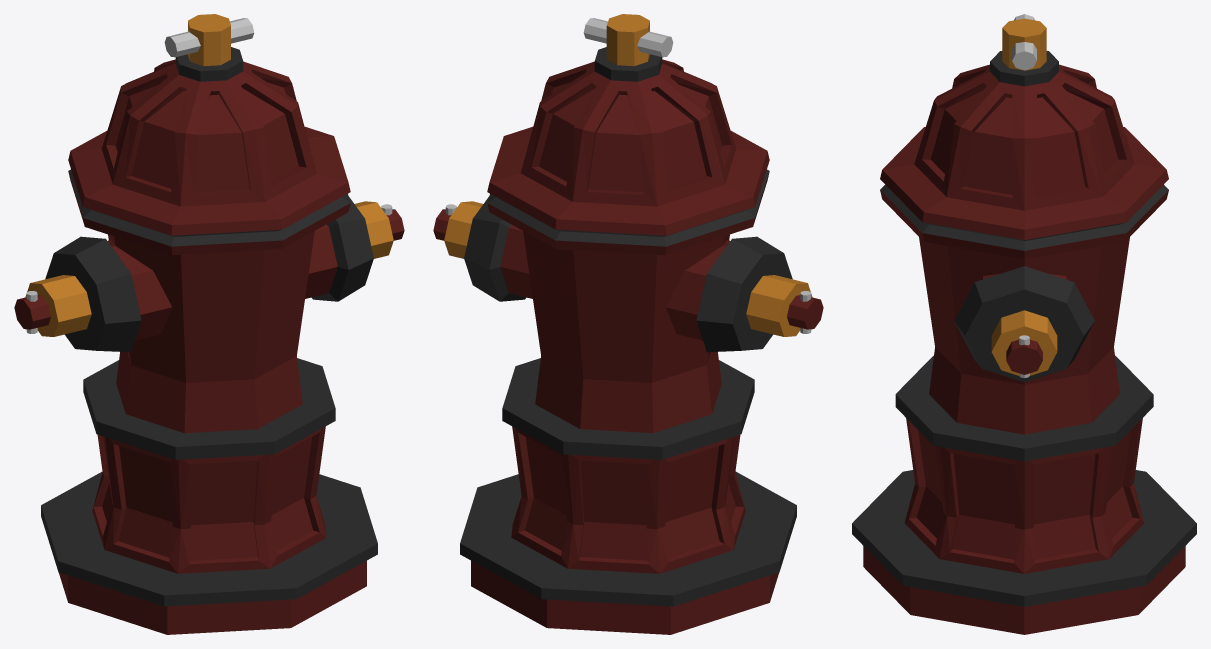
The model's file is Fireplug_01.FBX.
3 views of the same model, side by side, from view 1: azimuth 30°, elevation 25°; view 2: azimuth 150°, elevation 25°; view 3: azimuth 270°, elevation 25° (orthographic).
Visible parts, largest first — view 1: Fireplug_01; view 2: Fireplug_01; view 3: Fireplug_01.
Boxes of the visible parts, x1=… form: Fireplug_01: x1=14, y1=14, x2=404, y2=634; Fireplug_01: x1=433, y1=14, x2=823, y2=634; Fireplug_01: x1=852, y1=14, x2=1196, y2=634.
Size of the model in its own units: 1.13 by 1.59 by 0.9209.
